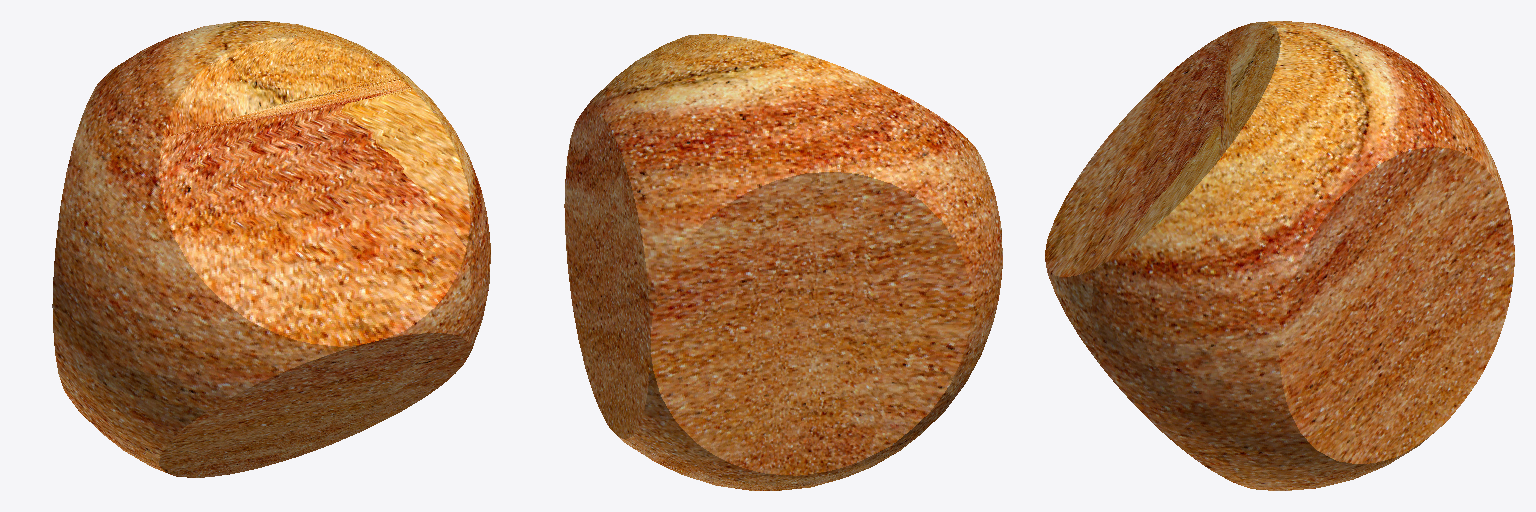
The picture shows the model from 3 angles: view 1: azimuth 30°, elevation 25°; view 2: azimuth 150°, elevation 25°; view 3: azimuth 270°, elevation 25°; orthographic projection.
Parts seen in each view (by area): view 1: Cube.007; view 2: Cube.007; view 3: Cube.007.
Boxes of the visible parts, box(x1,y1,x2,y2) form: Cube.007: box(52, 21, 490, 477); Cube.007: box(564, 34, 1002, 490); Cube.007: box(1045, 21, 1514, 490).
Size of the model in its own units: 2.01 by 2.01 by 2.
1 materials, 1 textured.